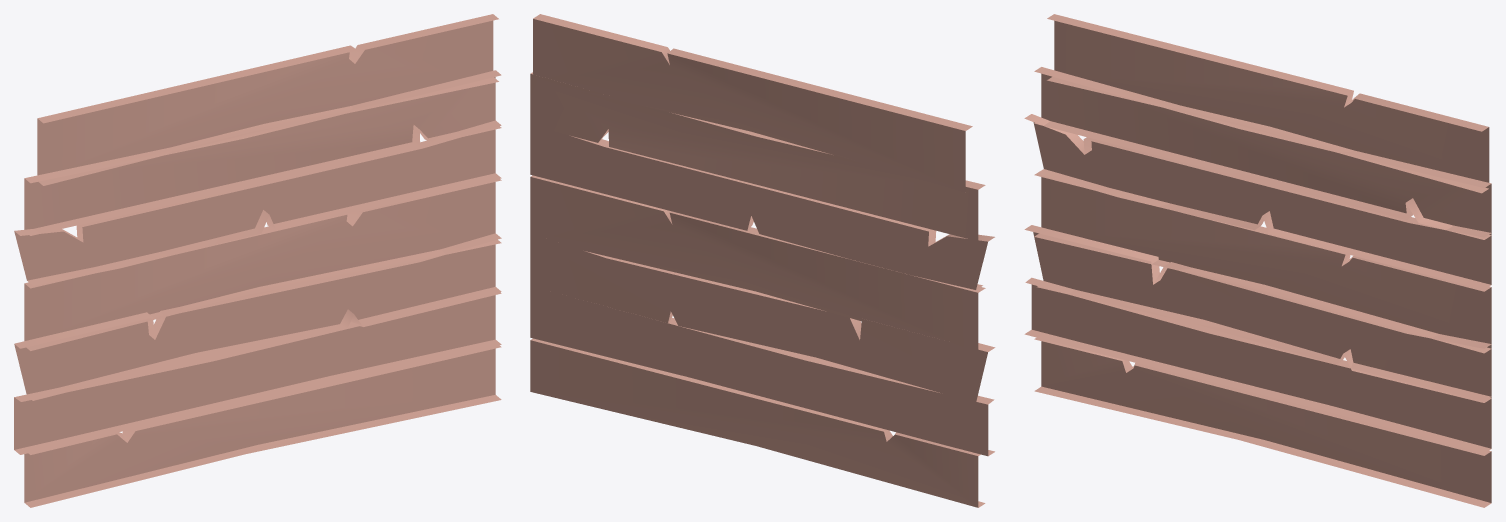
Rendered from Building_035.glb.
3 views of the same model, side by side, from view 1: azimuth 30°, elevation 25°; view 2: azimuth 150°, elevation 25°; view 3: azimuth 330°, elevation 25° (orthographic). The views are drawn at different scales.
Visible parts, largest first — view 1: Building_035; view 2: Building_035; view 3: Building_035.
Boxes of the visible parts, x1=… form: Building_035: x1=14, y1=14, x2=501, y2=507; Building_035: x1=530, y1=14, x2=995, y2=507; Building_035: x1=1024, y1=14, x2=1491, y2=507.
Bounding box in the file's own units: 6.22 × 4.78 × 0.319.
1 material, 1 textured.
